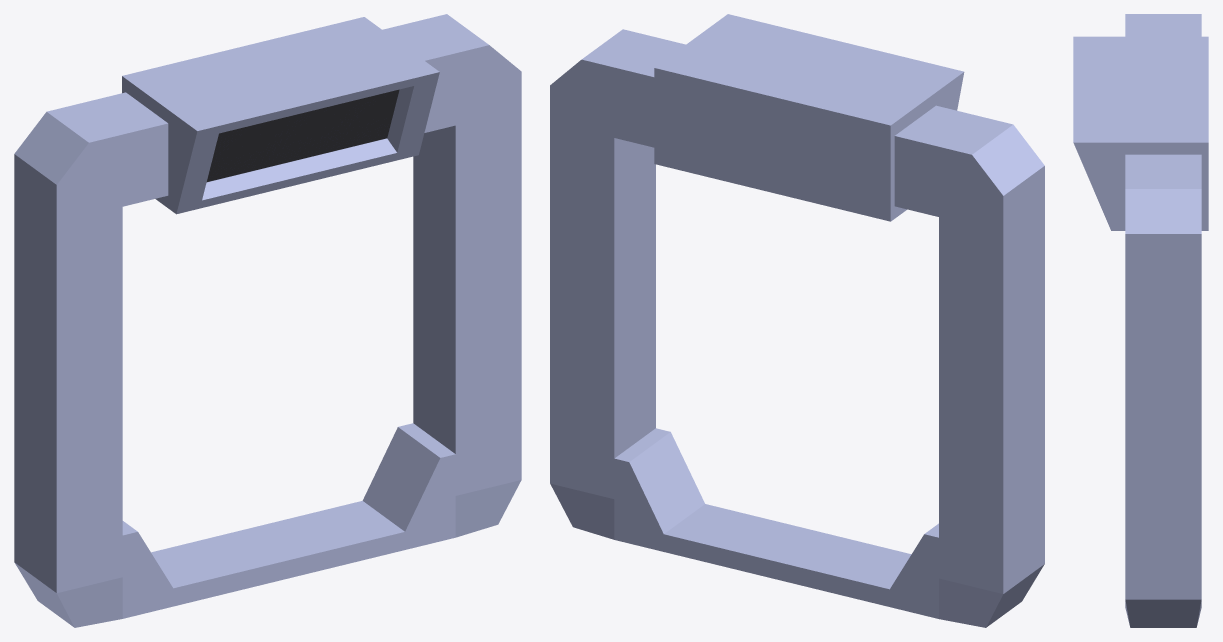
The model's file is station.glb.
3 renders of one model, left to right at view 1: azimuth 30°, elevation 25°; view 2: azimuth 150°, elevation 25°; view 3: azimuth 270°, elevation 25°, orthographic. The views are drawn at different scales.
Parts seen in each view (by area): view 1: station, screen; view 2: station, screen; view 3: station, screen.
Boxes of the visible parts, box(x1,y1,x2,y2) form: station: box(14, 14, 521, 627); screen: box(122, 17, 439, 214); station: box(550, 29, 1044, 627); screen: box(654, 14, 964, 221); station: box(1125, 14, 1201, 627); screen: box(1073, 36, 1208, 230).
Bounding box in the file's own units: 1.97 × 2.02 × 0.5546.
2 materials, 2 textured.
